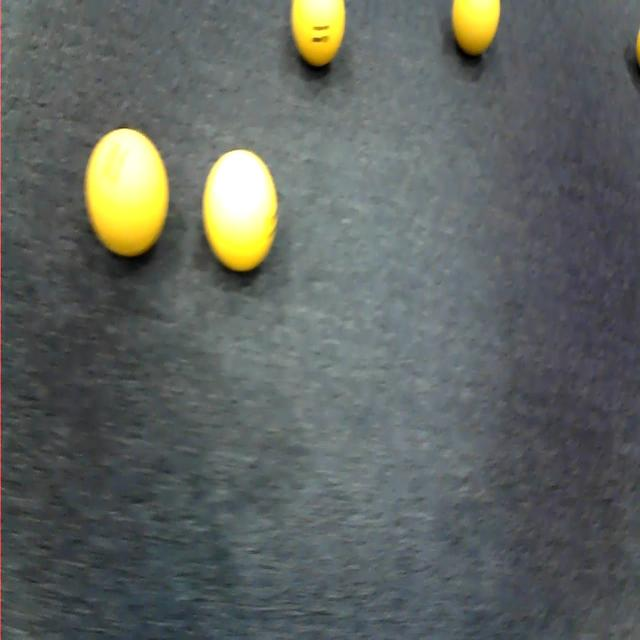fuel: (85, 128, 169, 256), (203, 150, 277, 271), (291, 0, 345, 66), (636, 31, 639, 65)
